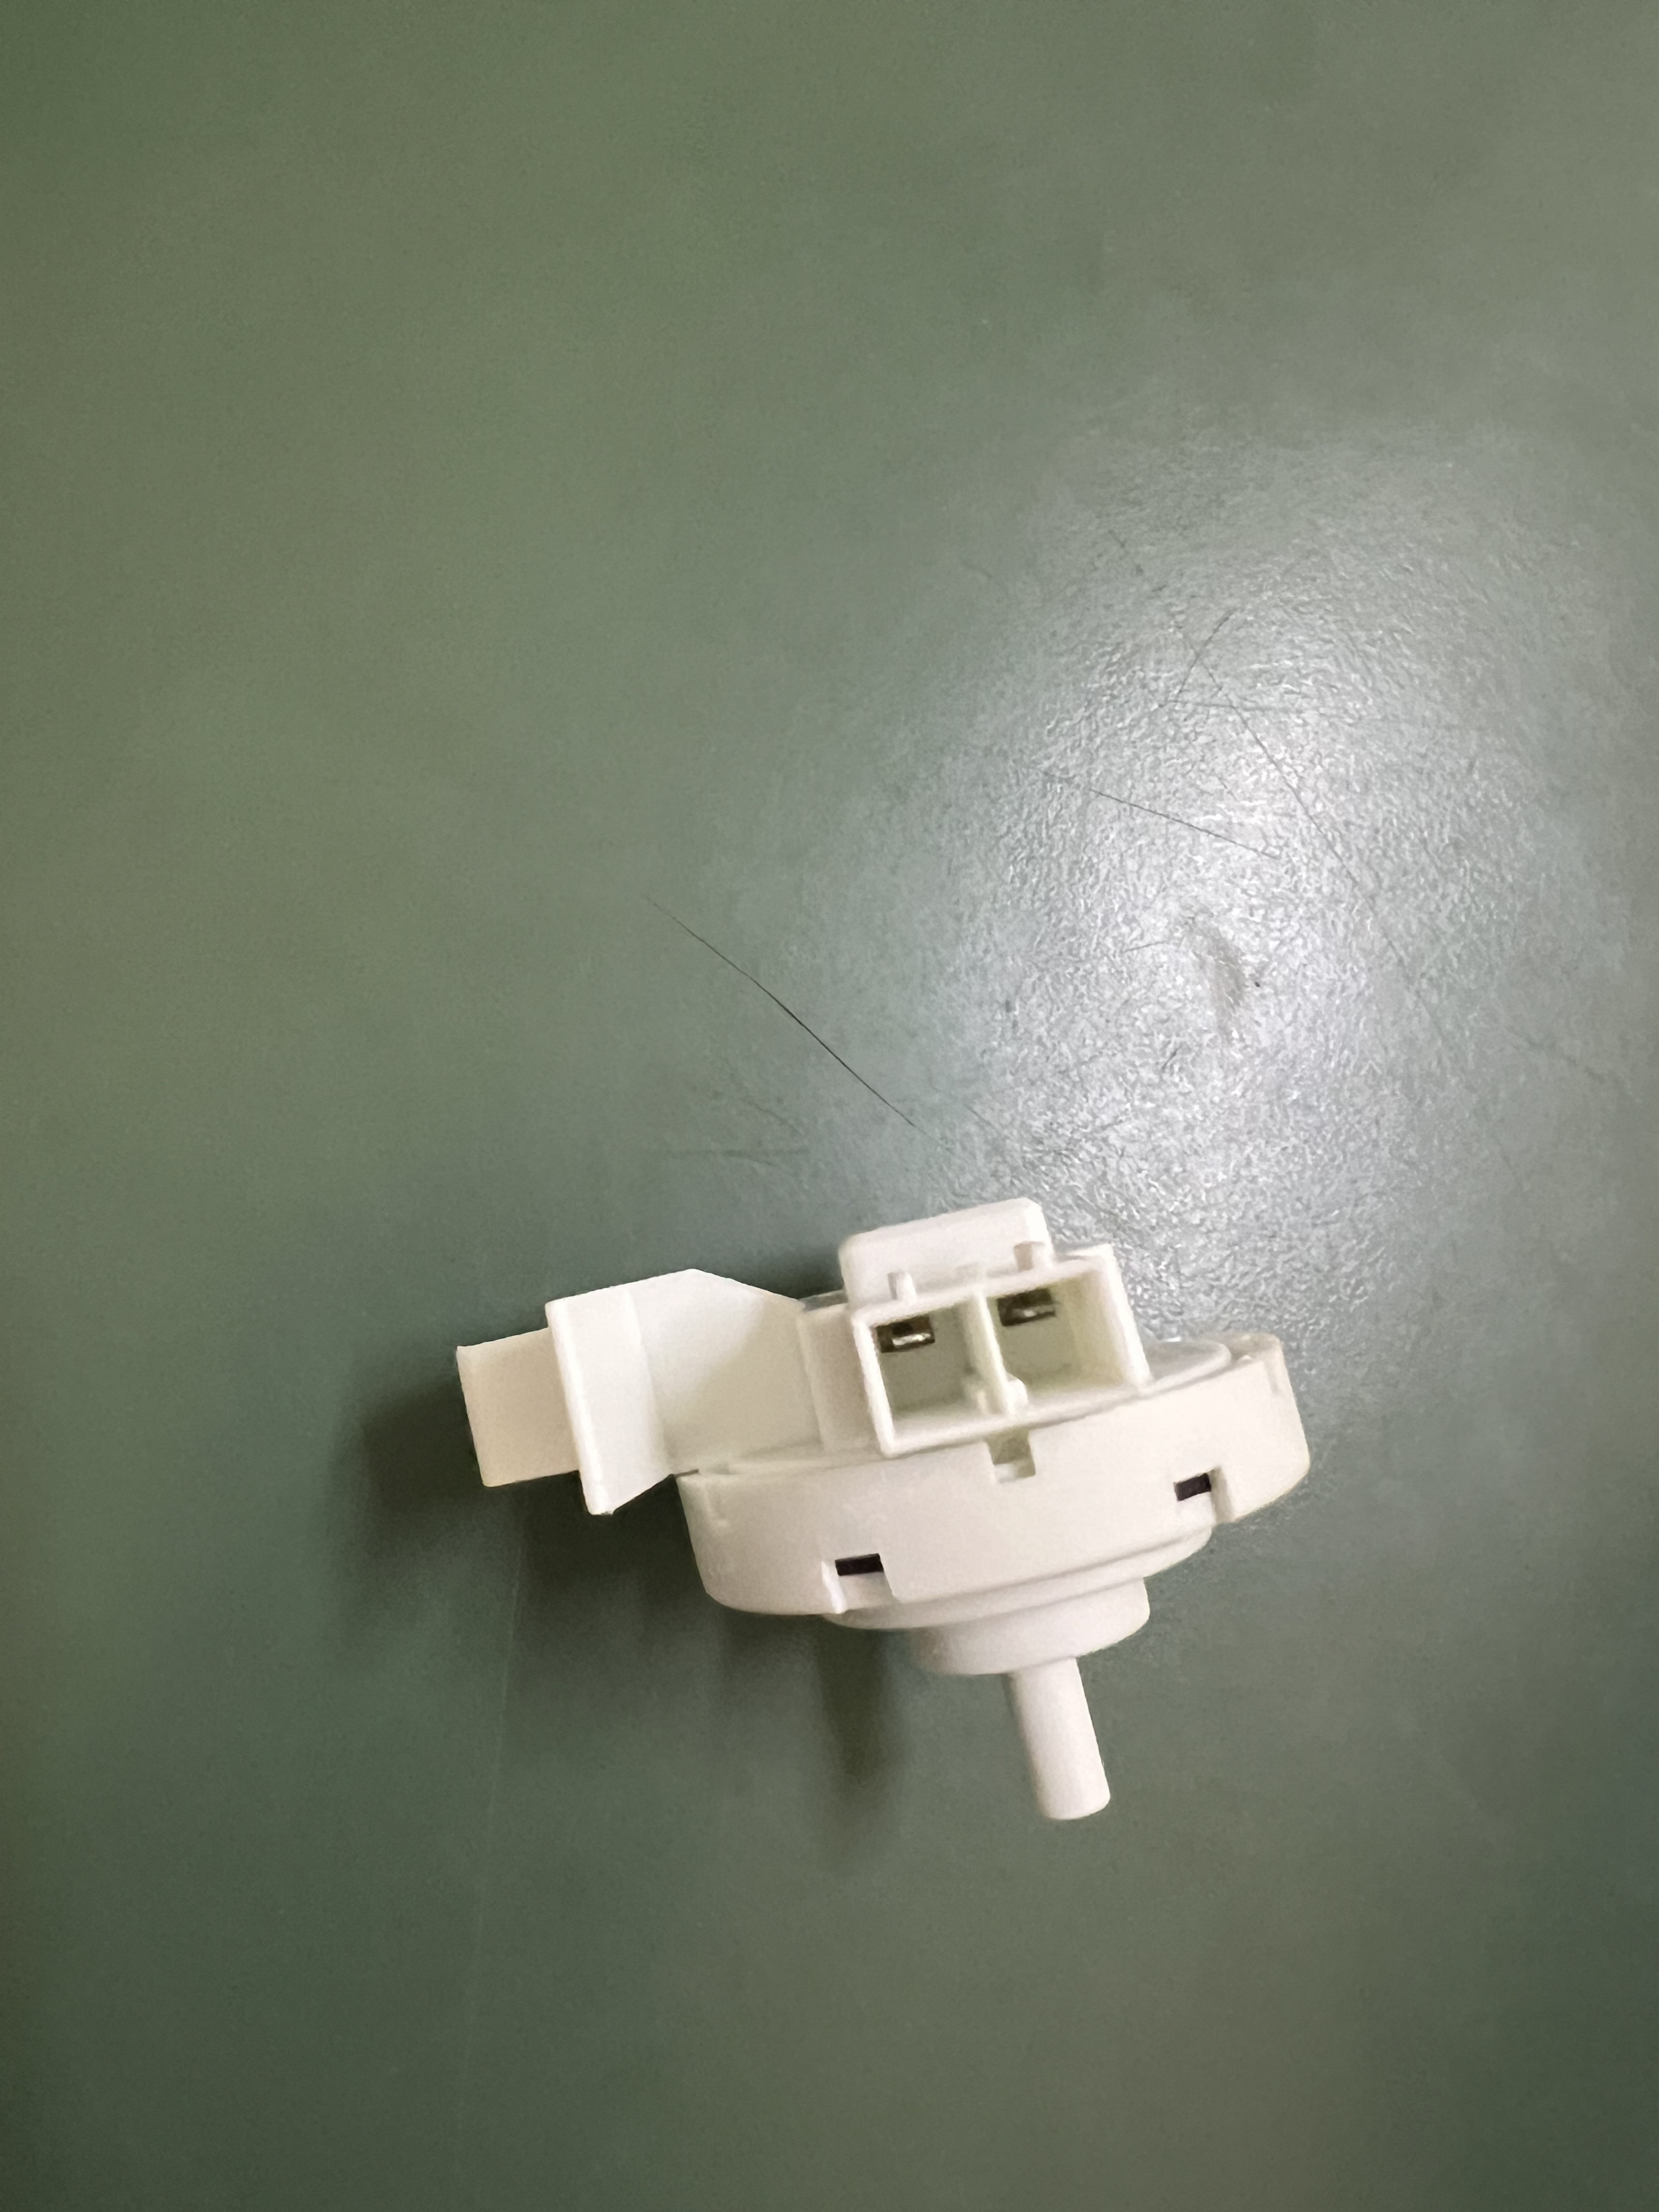pressure_switch_2: (430, 1190, 1305, 1865)
